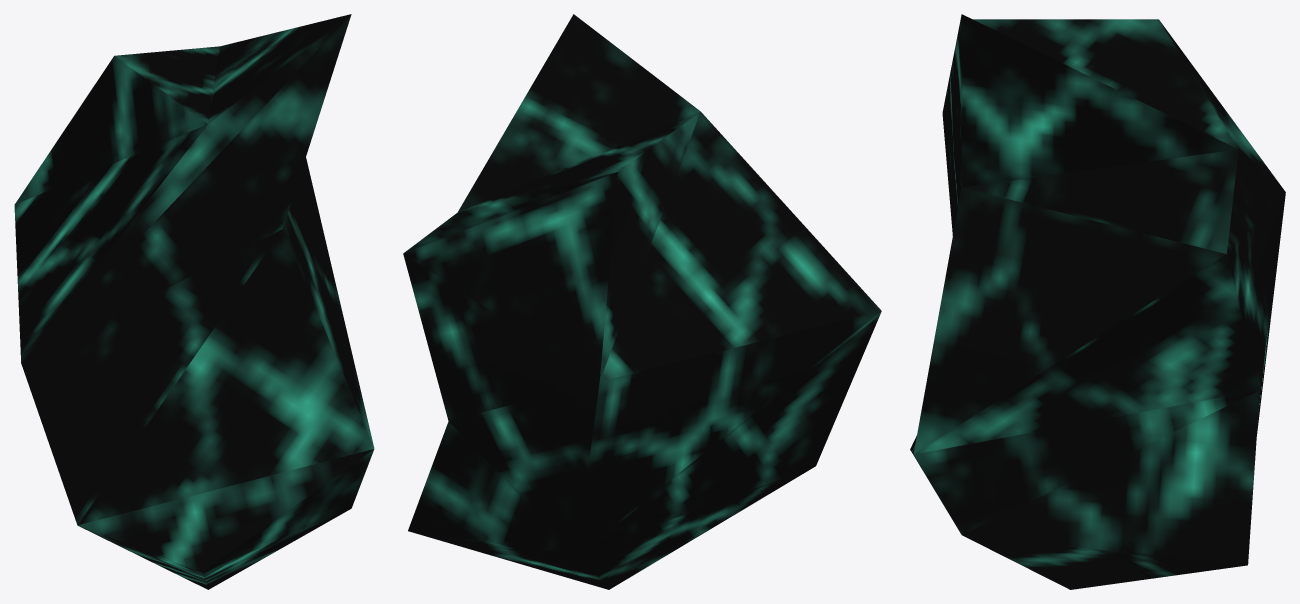
File: osk.glb
The picture shows the model from 3 angles, left to right: view 1: azimuth 30°, elevation 25°; view 2: azimuth 150°, elevation 25°; view 3: azimuth 270°, elevation 25°; orthographic projection. The views are drawn at different scales.
Parts seen in each view (by area): view 1: Cube.2; view 2: Cube.2; view 3: Cube.2.
Boxes of the visible parts, x1=… form: Cube.2: x1=14, y1=14, x2=374, y2=589; Cube.2: x1=403, y1=14, x2=881, y2=589; Cube.2: x1=910, y1=14, x2=1285, y2=589.
Bounding box in the file's own units: 0.0878 × 0.122 × 0.0667.
1 material, 1 textured.
